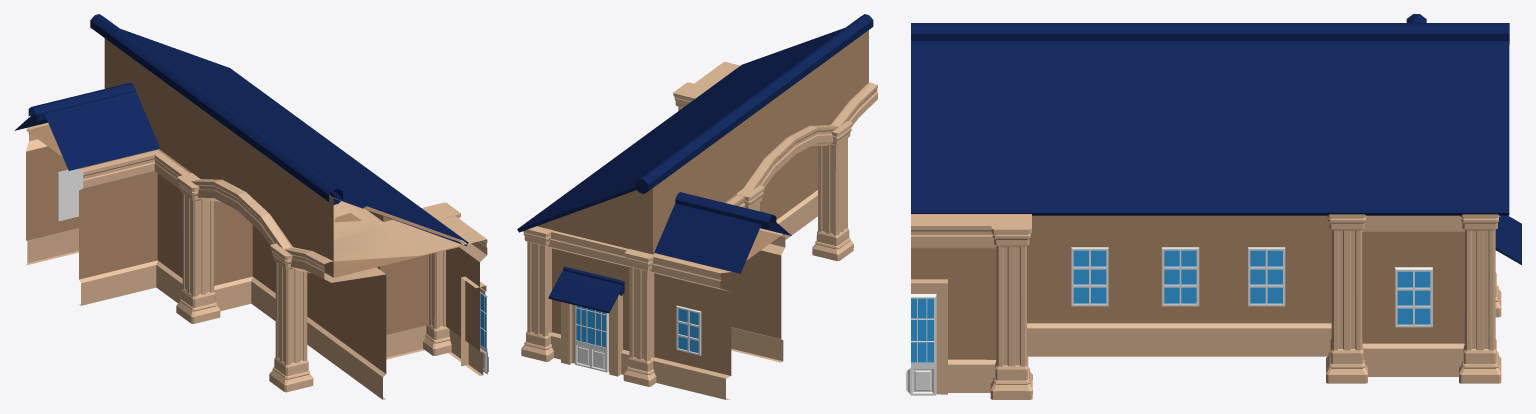
The picture shows the model from 3 angles, left to right: view 1: azimuth 30°, elevation 25°; view 2: azimuth 150°, elevation 25°; view 3: azimuth 270°, elevation 25°; orthographic projection. The views are drawn at different scales.
Visible parts, largest first — view 1: Object005; view 2: Object005; view 3: Object005.
Boxes of the visible parts, x1,y1,x2,y2 form: Object005: [14, 14, 488, 399]; Object005: [517, 14, 877, 399]; Object005: [906, 14, 1521, 399].
Size of the model in its own units: 8.61 by 7.02 by 14.07.
